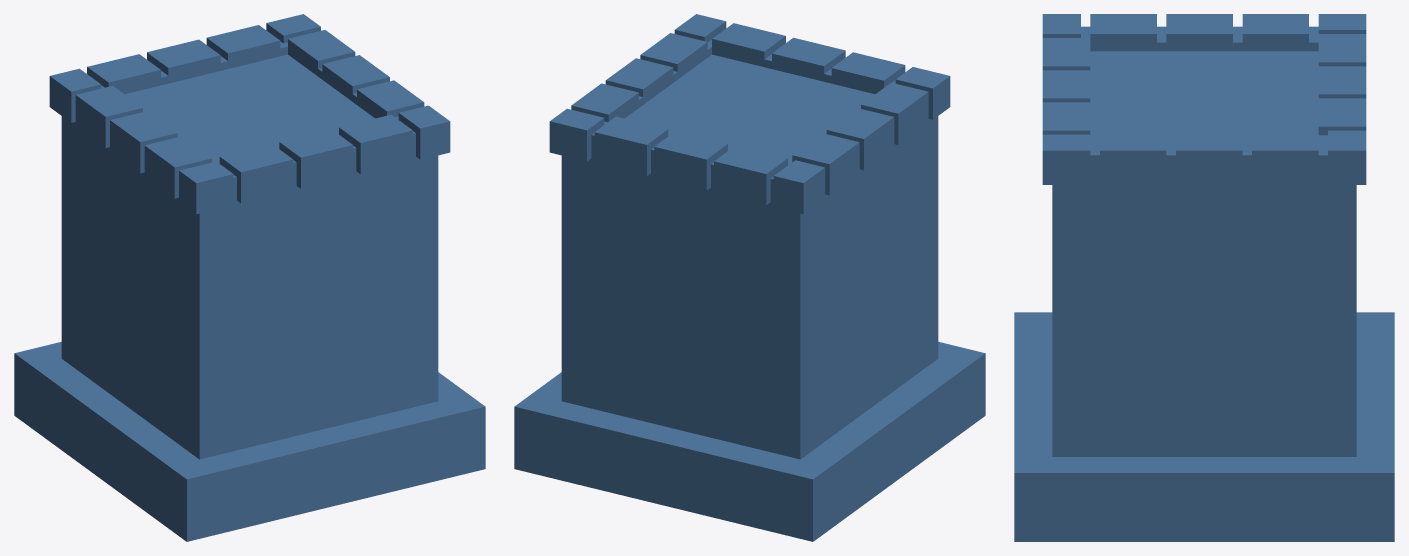
The model's file is Wall Tower.obj.
3 views of the same model, side by side, from view 1: azimuth 30°, elevation 25°; view 2: azimuth 150°, elevation 25°; view 3: azimuth 270°, elevation 25° (orthographic). The views are drawn at different scales.
Size of the model in its own units: 40 by 44 by 40.
Materials: 1 (1 with a texture image).
